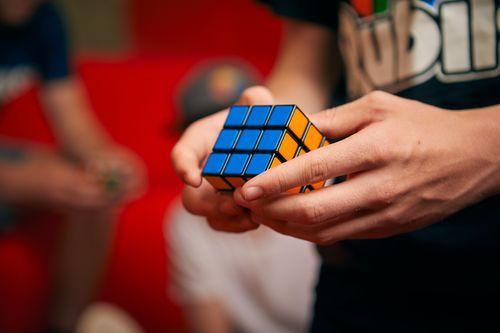cube: (201, 93, 335, 227)
